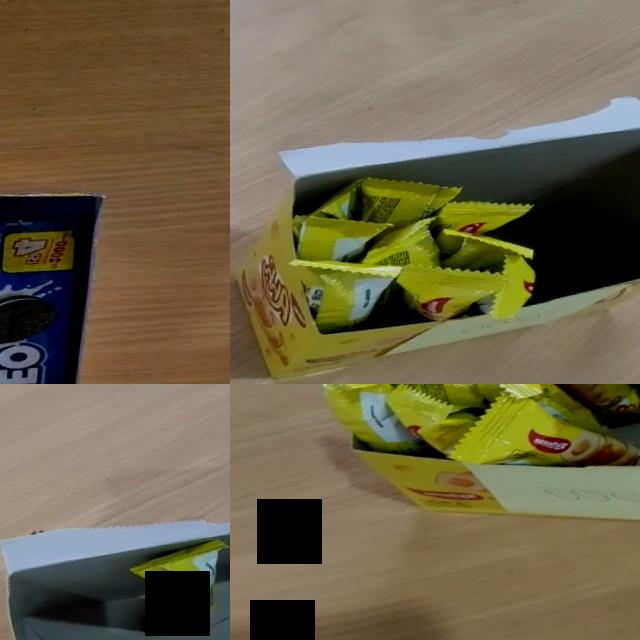Ahh: (454, 393, 640, 466), (289, 246, 409, 336), (125, 537, 230, 639), (392, 252, 507, 326), (353, 166, 467, 240), (325, 384, 427, 454), (429, 191, 538, 256), (290, 204, 398, 268), (389, 384, 477, 455), (435, 218, 537, 278), (286, 178, 372, 248), (480, 384, 604, 430), (356, 215, 444, 277), (482, 250, 540, 322), (562, 384, 640, 416), (394, 384, 482, 407)
Oreo: (0, 186, 128, 384)
